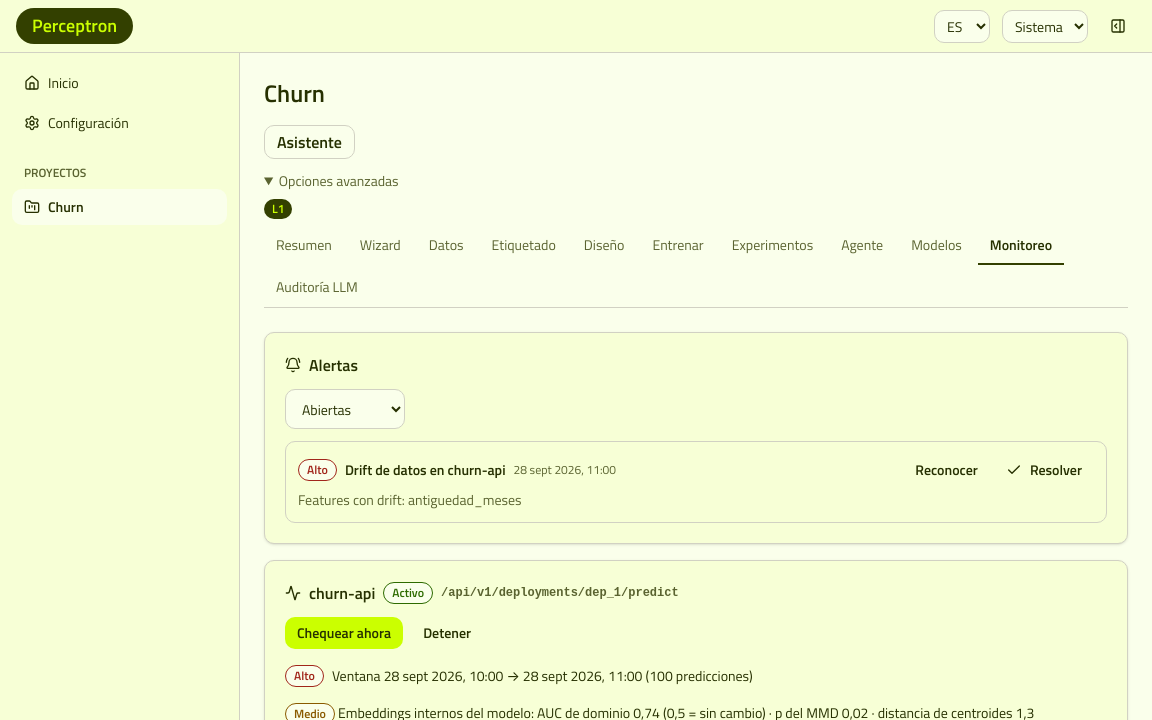
Test: monitoreo (Capa 6a) › muestra el drift por feature, la performance y resuelve alertas
The image size is (1152, 720).
Expected: the element with test id "embedding-drift" shows "AUC de dominio 0,74", [338, 702, 1034, 719]
Expected: the text "Drift de datos en churn-api" is shown, [345, 460, 506, 480]
Click the button "Resolver" at (1044, 470), box [994, 454, 1094, 486]
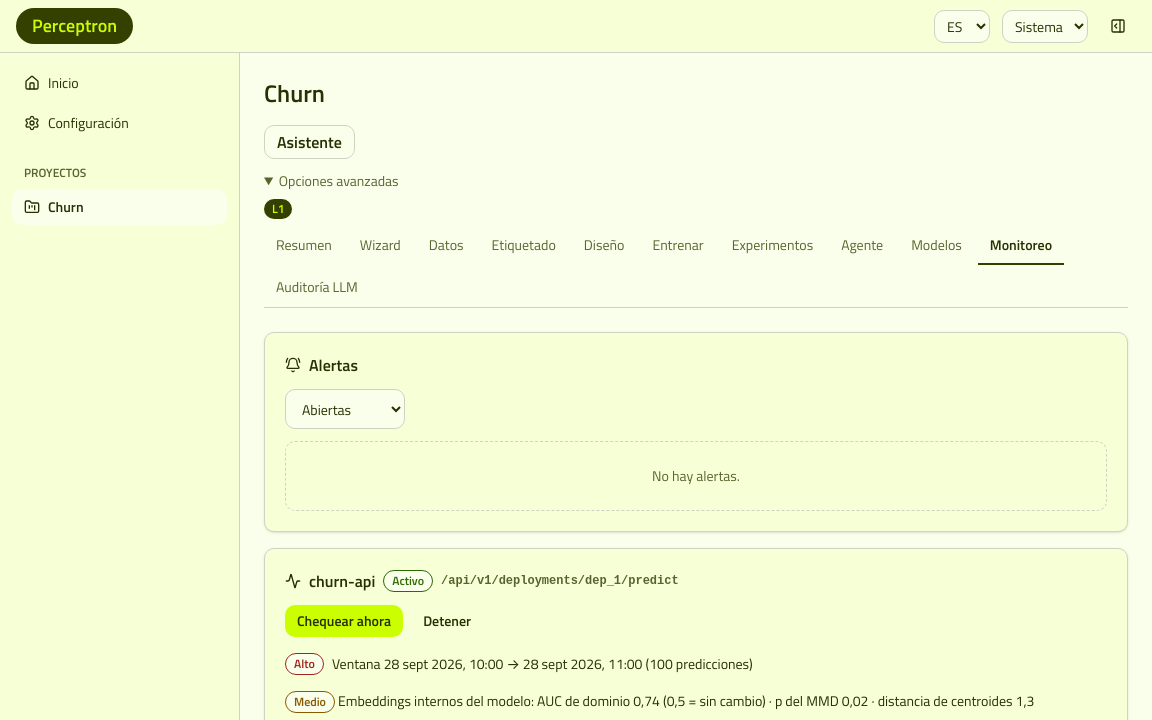
Expected: the text "No hay alertas." is shown, [285, 441, 1107, 511]
